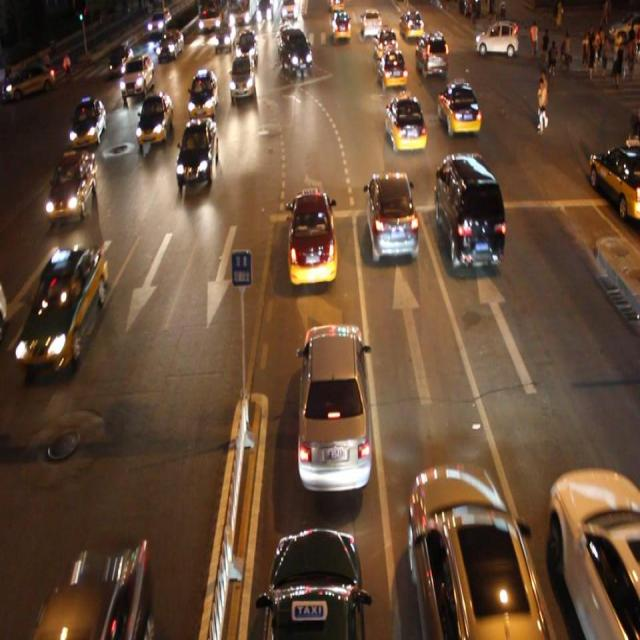car: (405, 466, 550, 640), (548, 467, 640, 640), (297, 322, 371, 491), (266, 527, 364, 640), (19, 247, 107, 372), (435, 153, 505, 270), (364, 170, 418, 260), (287, 188, 335, 284), (587, 135, 640, 221), (46, 150, 97, 222), (178, 119, 218, 186), (437, 79, 480, 134), (386, 94, 425, 152), (70, 97, 105, 146), (139, 92, 171, 144), (279, 28, 312, 76), (188, 72, 218, 118), (416, 33, 448, 75), (123, 56, 153, 95), (228, 56, 255, 98), (378, 52, 406, 90), (107, 44, 134, 76)
